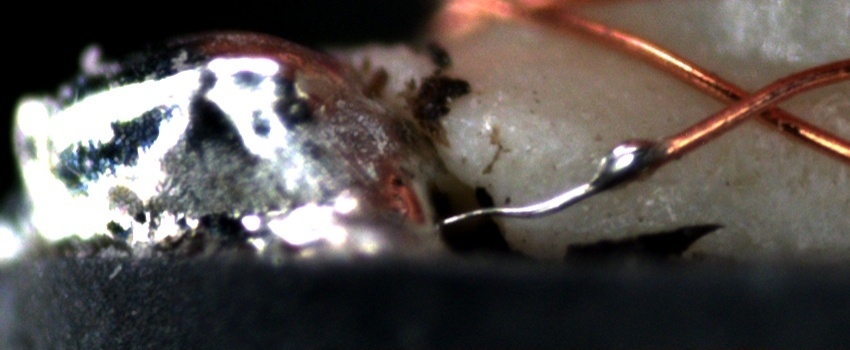CL: (704, 71, 805, 133)
TB: (587, 129, 672, 192)
TS: (445, 140, 667, 227)
TTCW: (439, 109, 720, 234)
